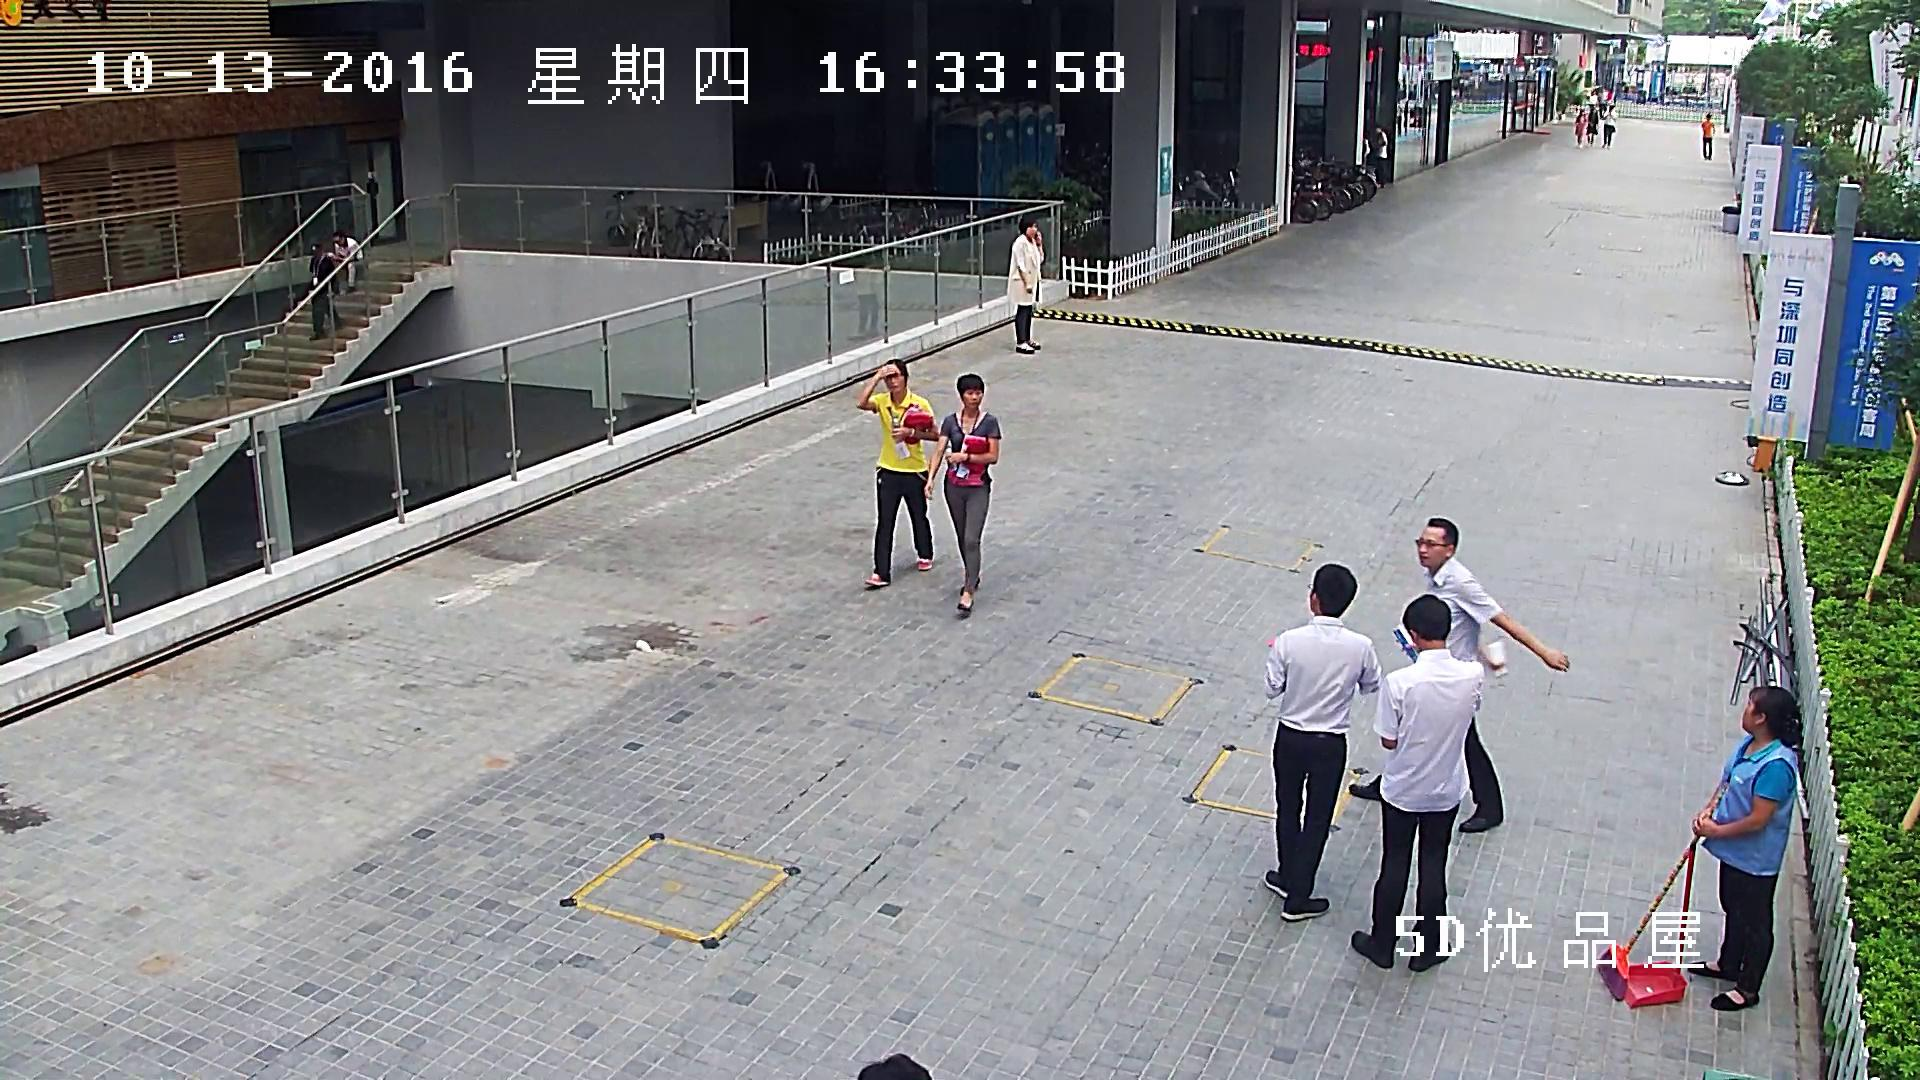person: (1347, 516, 1571, 834), (1597, 684, 1803, 1012), (1349, 593, 1485, 972), (1262, 562, 1383, 922), (1691, 683, 1804, 1012), (855, 357, 940, 588), (923, 373, 1002, 613), (1005, 214, 1045, 355), (307, 242, 345, 342), (325, 230, 365, 294), (850, 271, 878, 338), (1371, 125, 1390, 190), (1600, 104, 1618, 150), (1700, 112, 1714, 161), (1585, 103, 1599, 145), (1575, 108, 1588, 146), (1597, 87, 1607, 119), (1588, 88, 1598, 110)
